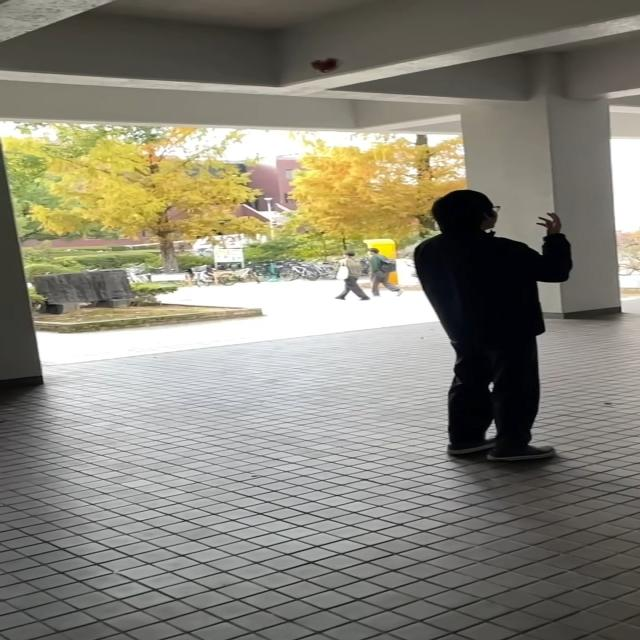paper: (310, 59, 343, 74)
